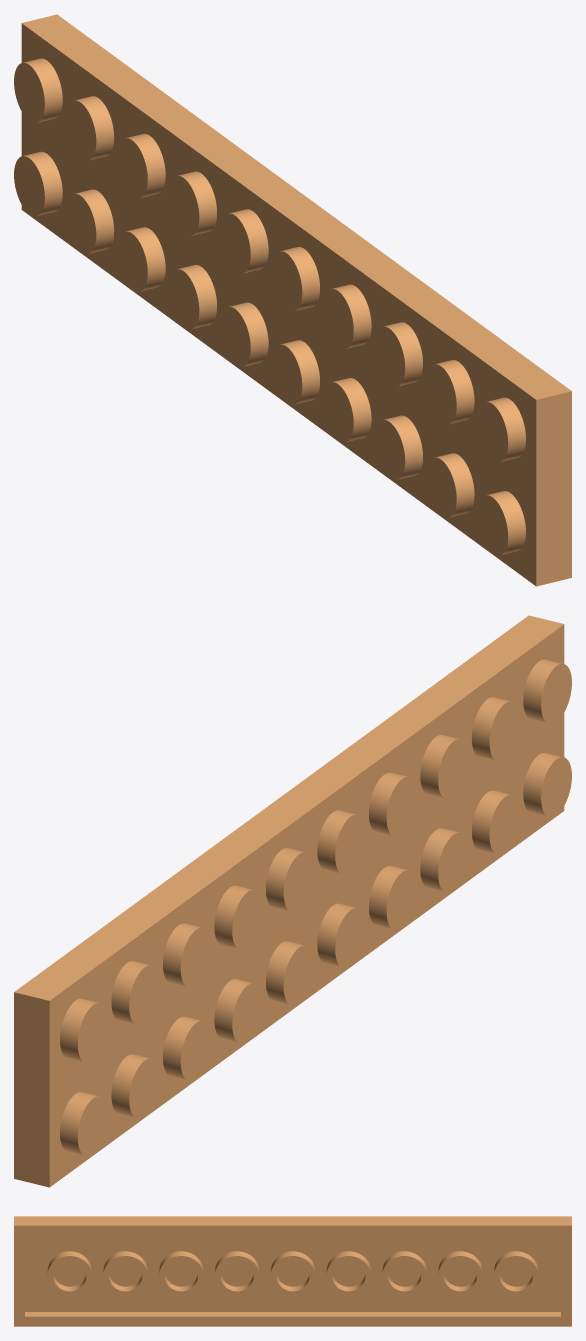
Rendered from plate2*10_light_nougat.obj.
3 views of the same model, one above another, from view 1: azimuth 30°, elevation 25°; view 2: azimuth 150°, elevation 25°; view 3: azimuth 270°, elevation 25° (orthographic). The views are drawn at different scales.
Bounding box in the file's own units: 12 × 40 × 200.
